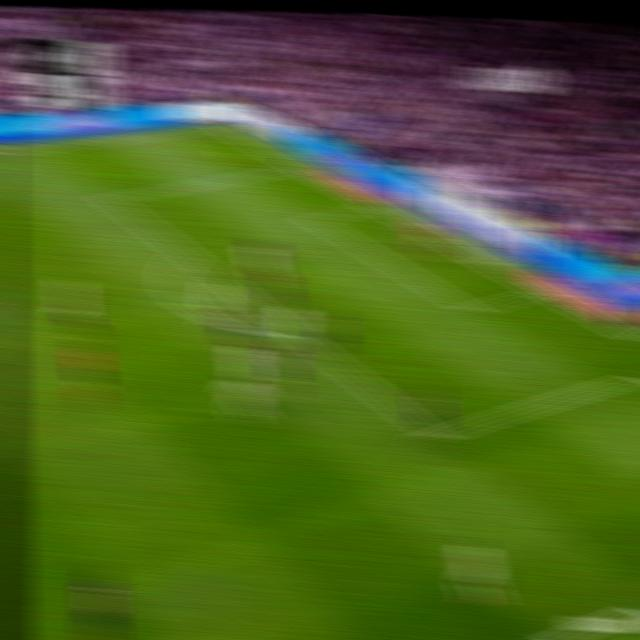bigarea_bottom_inner: (424, 424, 448, 447)
bigarea_top_inner: (99, 187, 123, 207)
bigarea_top_outter: (284, 157, 308, 173)
corner: (208, 121, 232, 132)
smallarea_top_inner: (304, 212, 326, 226)
top_arc_area_intersection: (175, 243, 199, 262)
